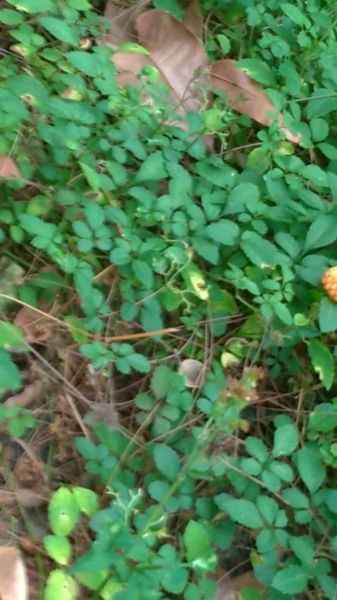eggs: (320, 261, 337, 308)
